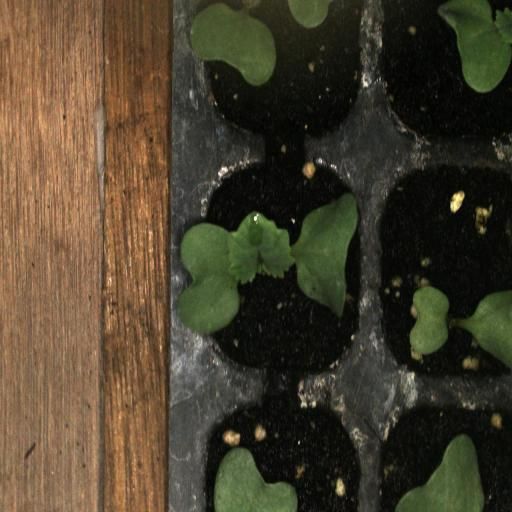seedling: (186, 157, 368, 383)
